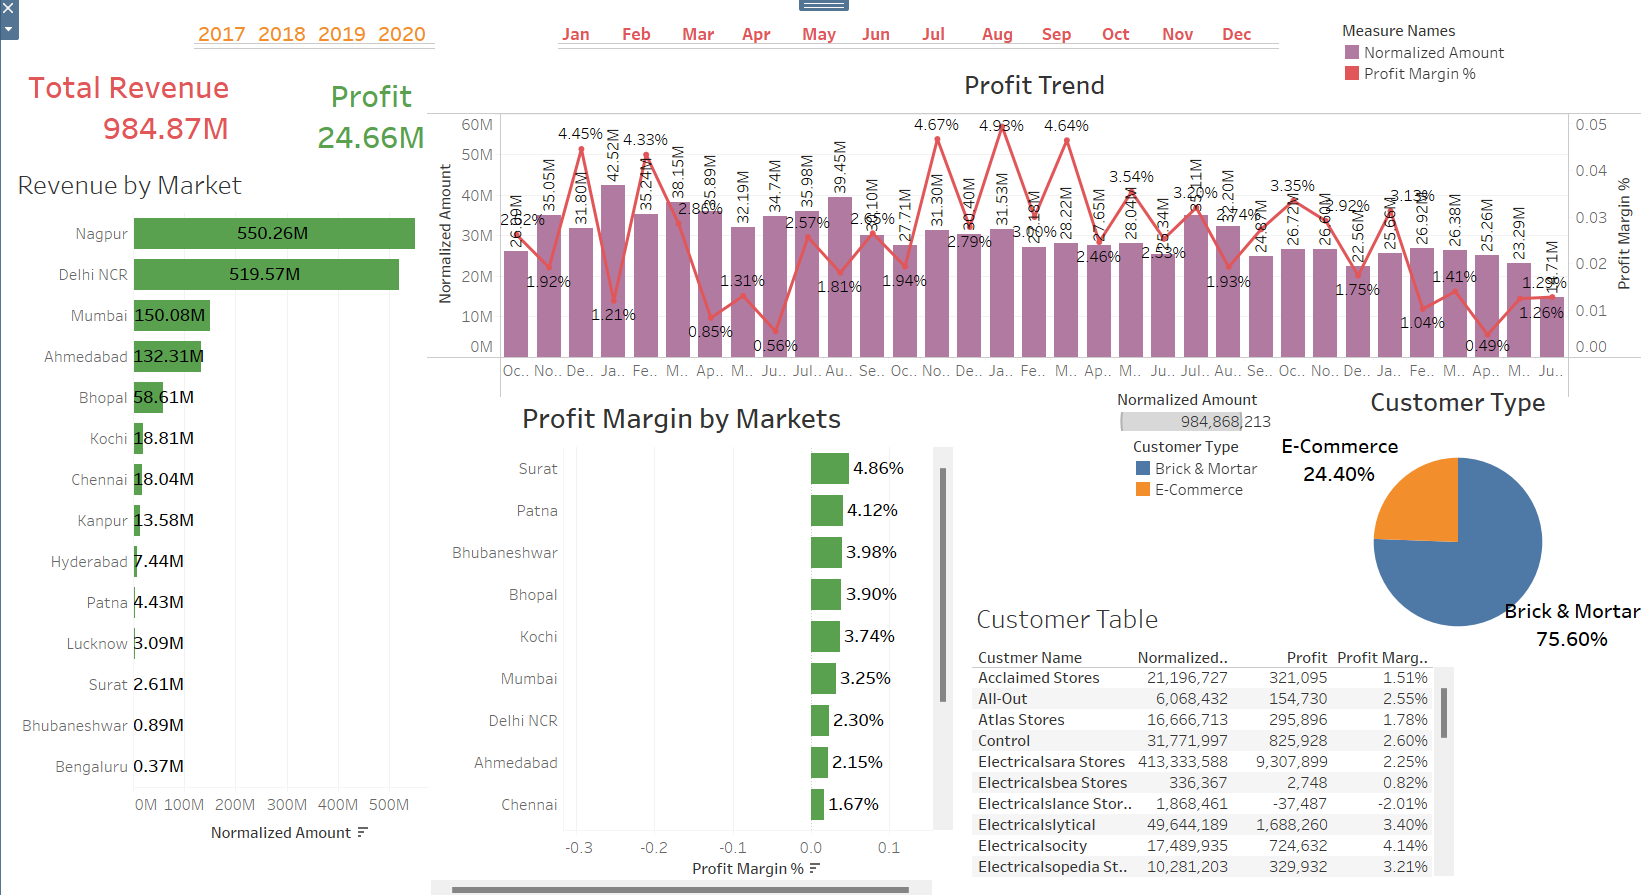

What the dashboard file says about the page in this screenshot:
{"tool":"tableau","page":{"name":"Dashboard 2 - Profit Analysis","canvas":[1650,900],"ordinal":1},"visuals":[{"type":"worksheet","title":"Year","mark":"Automatic","cols":["cy_date"],"box":[195,10,260,51]},{"type":"worksheet","title":"Month","mark":"Automatic","cols":["cy_date"],"box":[559,10,756,57]},{"type":"legend","title":"Profit Trend","param":"[federated.19n4rc603dqwze1dh8f9y1f2irek].[:Measure Names]","box":[1343,22,168,64]},{"type":"worksheet","title":"Profit","mark":"Automatic","box":[284,55,230,130]},{"type":"worksheet","title":"Profit Trend","mark":"Bar","rows":["Calculation_597852904599560192","Calculation_435441843505332224"],"cols":["cy_date"],"box":[428,65,1215,335]},{"type":"worksheet","title":"Revenue","mark":"Automatic","box":[15,68,254,116]},{"type":"worksheet","title":"Revenue by Market","mark":"Automatic","rows":["markets_name"],"cols":["Calculation_597852904599560192"],"box":[14,165,416,735]},{"type":"worksheet","title":"Customer Type","mark":"Pie","box":[1275,382,377,274]},{"type":"legend","title":"Customer Type","param":"[federated.19n4rc603dqwze1dh8f9y1f2irek].[sum:Calculation_597852904599560192:qk]","box":[1118,391,158,43]},{"type":"worksheet","title":"Profit Margin by Markets","mark":"Automatic","rows":["markets_name"],"cols":["Calculation_435441843505332224"],"box":[432,397,522,505]},{"type":"legend","title":"Customer Type","param":"[federated.19n4rc603dqwze1dh8f9y1f2irek].[none:customer_type:nk]","box":[1134,438,140,64]},{"type":"worksheet","title":"Customer Table","mark":"Automatic","rows":["custmer_name"],"box":[973,599,550,280]}]}

Visuals, with their boxes in screenshot pixels (x1, y1, x2, y2), scaled from the page's 1650x900 canvas onto the 1646x895 screenshot:
"Year" worksheet: [x1=195, y1=10, x2=454, y2=61]
"Month" worksheet: [x1=558, y1=10, x2=1312, y2=67]
"Profit Trend" legend: [x1=1340, y1=22, x2=1507, y2=86]
"Profit" worksheet: [x1=283, y1=55, x2=513, y2=184]
"Profit Trend" worksheet (Bar marks): [x1=427, y1=65, x2=1639, y2=398]
"Revenue" worksheet: [x1=15, y1=68, x2=268, y2=183]
"Revenue by Market" worksheet: [x1=14, y1=164, x2=429, y2=894]
"Customer Type" worksheet (Pie marks): [x1=1272, y1=380, x2=1645, y2=652]
"Customer Type" legend: [x1=1115, y1=389, x2=1273, y2=432]
"Profit Margin by Markets" worksheet: [x1=431, y1=395, x2=952, y2=894]
"Customer Type" legend: [x1=1131, y1=436, x2=1271, y2=499]
"Customer Table" worksheet: [x1=971, y1=596, x2=1519, y2=874]
